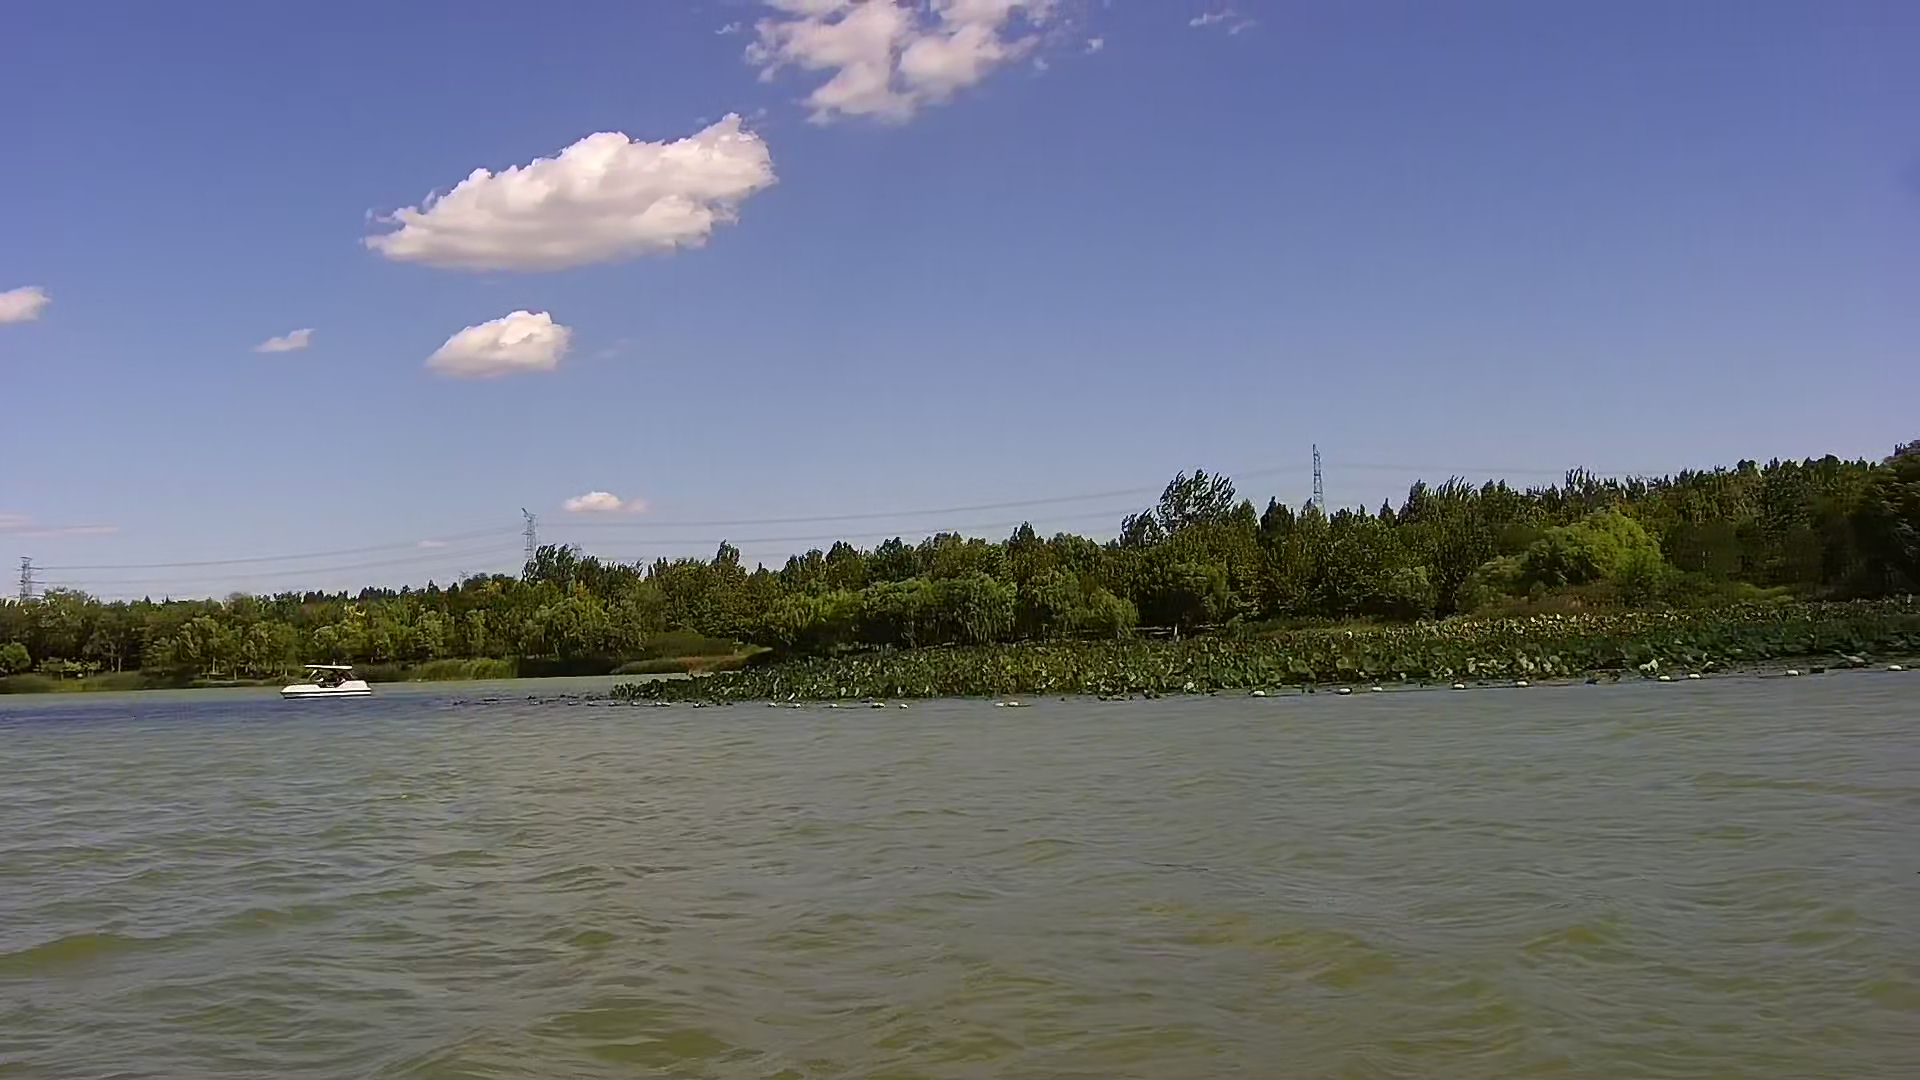boat: (280, 658, 376, 699)
